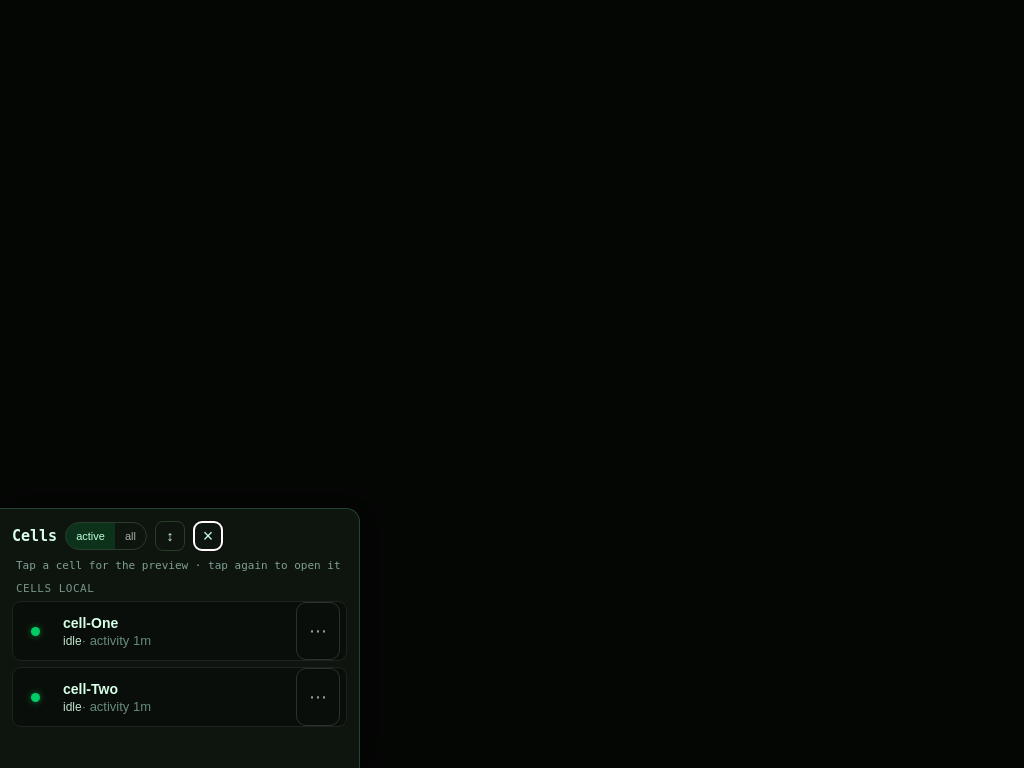
Test: il gesto della lista: un tocco seleziona, il secondo apre › primo tocco: seleziona la riga e apre l'anteprima, NON apre la cella
What coordinates should you click on to do the following:
click the button "cell-One idle activity 1m"
I would click on:
 (176, 631)
Its box is [63,602,290,660].
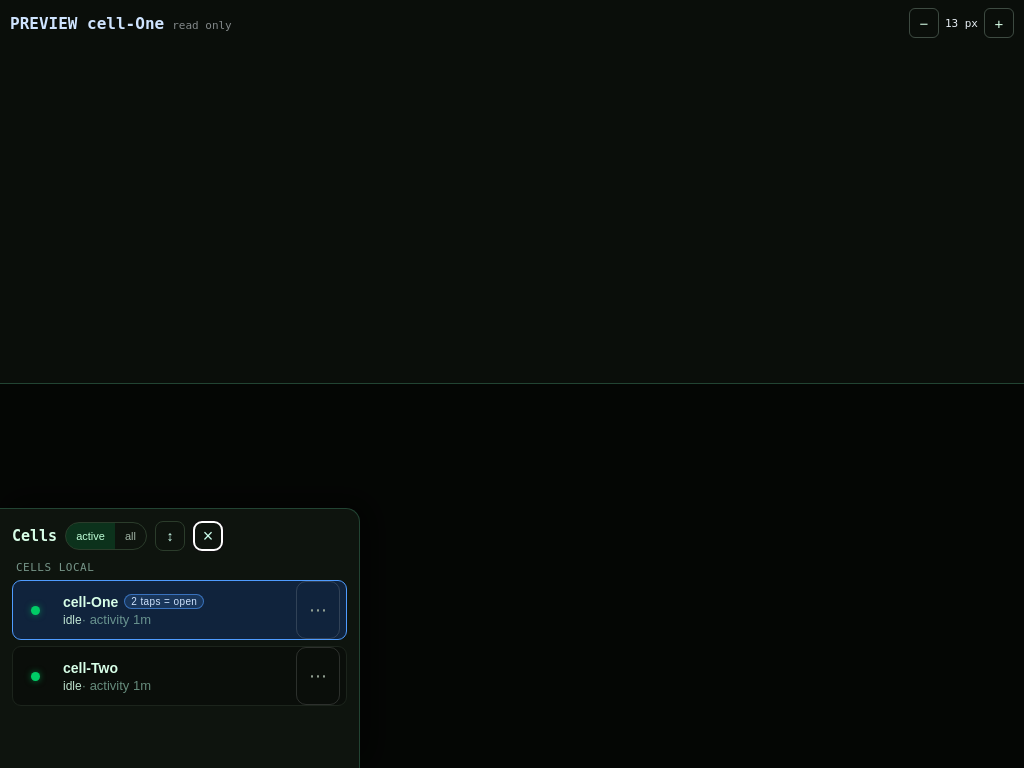
Result: the element with test id "cell-switcher-anteprima" is shown at [0,0,1023,384]
Result: the button "cell-One 2 taps = open idle activity 1m" is shown at [63,581,290,639]
Result: the text "Tap a cell for the preview · tap again to open it" is gone
